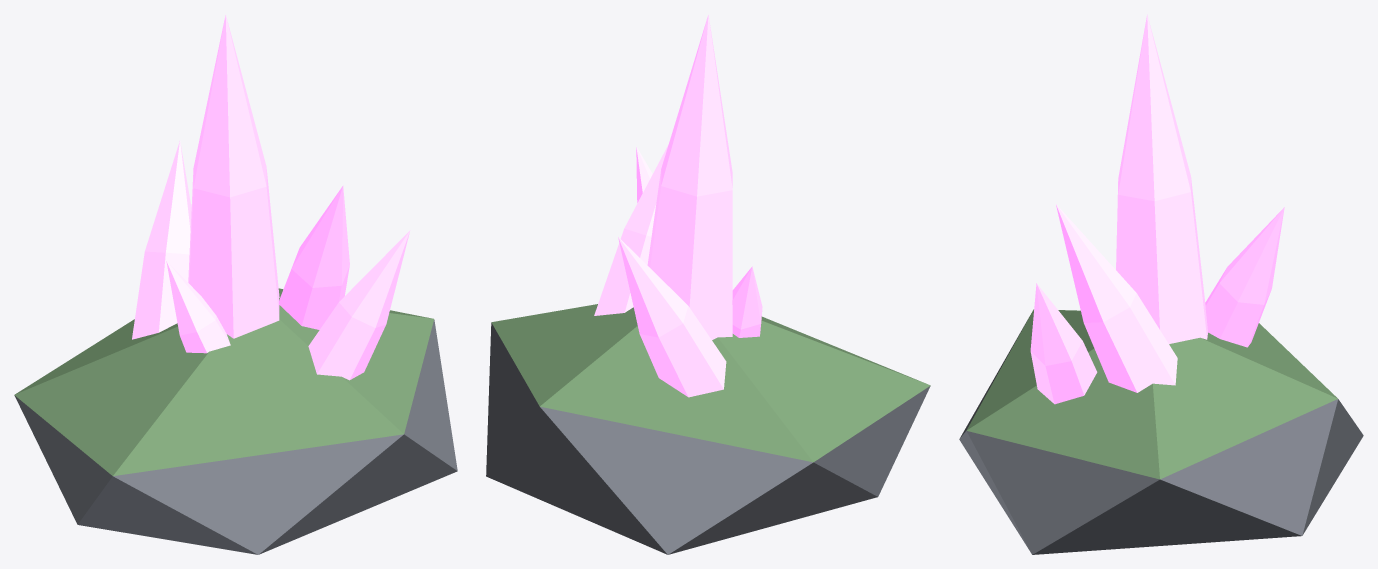
The model's file is crystal_rock.glb.
The picture shows the model from 3 angles, left to right: view 1: azimuth 30°, elevation 25°; view 2: azimuth 150°, elevation 25°; view 3: azimuth 270°, elevation 25°; orthographic projection.
Parts seen in each view (by area): view 1: CRock_Boulder, CRock_Crystal_0, CRock_Crystal_3, CRock_Crystal_2, CRock_Crystal_1, CRock_Crystal_4; view 2: CRock_Boulder, CRock_Crystal_0, CRock_Crystal_2, CRock_Crystal_1, CRock_Crystal_4; view 3: CRock_Boulder, CRock_Crystal_0, CRock_Crystal_1, CRock_Crystal_2, CRock_Crystal_3.
Boxes of the visible parts, x1=… form: CRock_Boulder: x1=14, y1=288, x2=457, y2=554; CRock_Crystal_0: x1=188, y1=14, x2=279, y2=338; CRock_Crystal_3: x1=308, y1=230, x2=410, y2=380; CRock_Crystal_2: x1=132, y1=140, x2=191, y2=339; CRock_Crystal_1: x1=279, y1=185, x2=349, y2=329; CRock_Crystal_4: x1=166, y1=261, x2=230, y2=353; CRock_Boulder: x1=486, y1=304, x2=930, y2=554; CRock_Crystal_0: x1=647, y1=14, x2=732, y2=339; CRock_Crystal_2: x1=618, y1=237, x2=726, y2=397; CRock_Crystal_1: x1=594, y1=144, x2=668, y2=315; CRock_Crystal_4: x1=732, y1=266, x2=762, y2=337; CRock_Boulder: x1=959, y1=309, x2=1363, y2=554; CRock_Crystal_0: x1=1116, y1=14, x2=1207, y2=343; CRock_Crystal_1: x1=1056, y1=204, x2=1177, y2=392; CRock_Crystal_2: x1=1205, y1=207, x2=1284, y2=347; CRock_Crystal_3: x1=1030, y1=283, x2=1097, y2=404.
Size of the model in its own units: 0.8341 by 1.01 by 0.7617.
